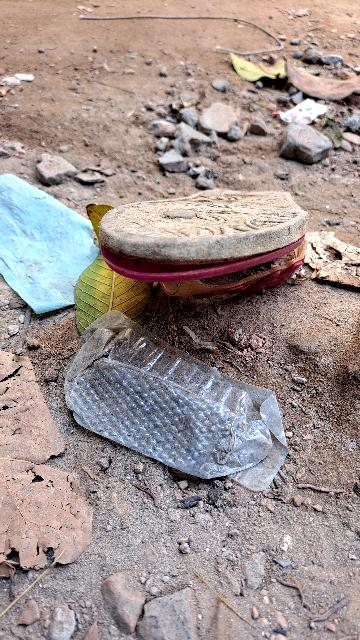sandal: (82, 168, 297, 276)
